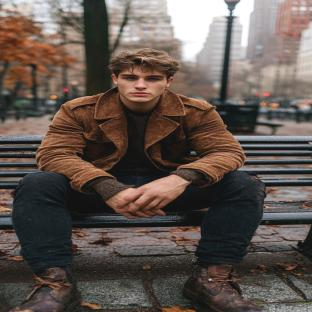Human: (11, 48, 265, 312)
